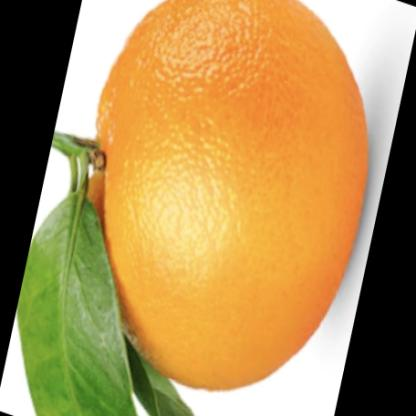fresh: (87, 1, 370, 390)
